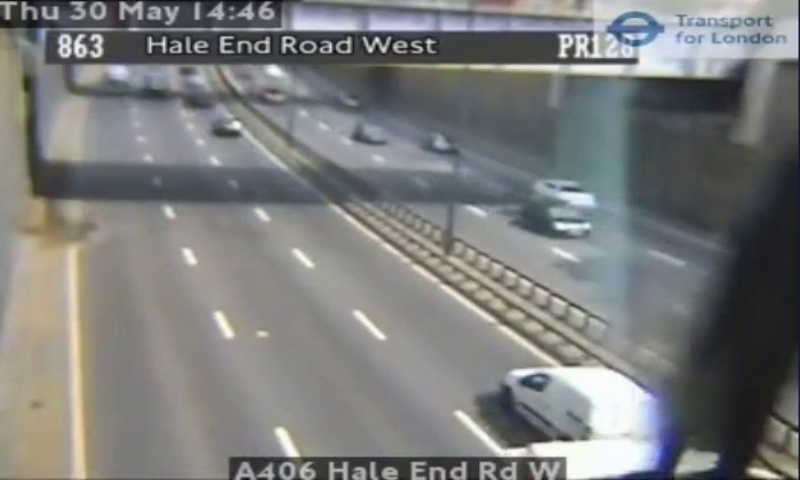van: (502, 368, 659, 439)
